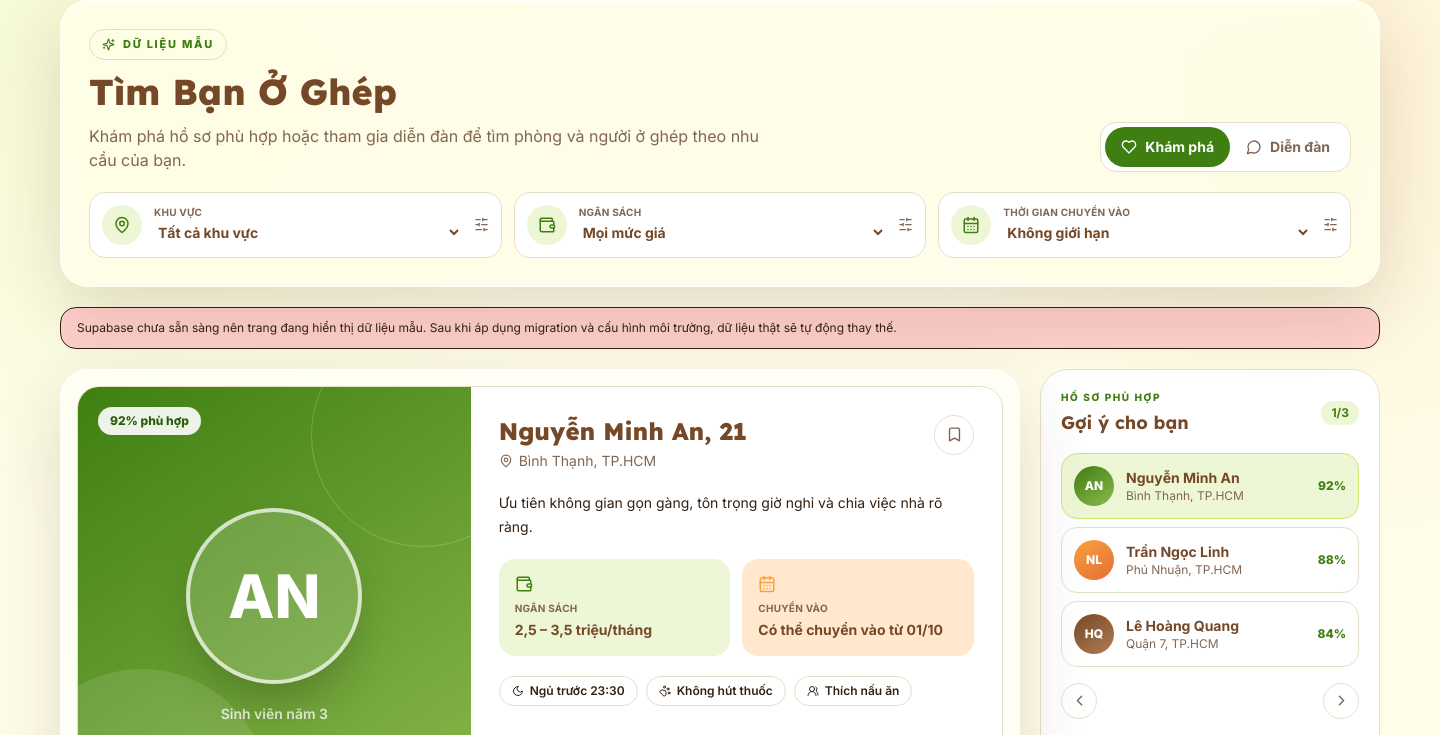
Test: RoommateExperience › lets people browse suggested roommate profiles
Check: the text "Dữ liệu mẫu" is shown, box x1=89 y1=29 x2=227 y2=60
Check: the heading "Tìm Bạn Ở Ghép" is shown, box x1=89 y1=68 x2=397 y2=114
Click the button named "Hồ sơ tiếp theo".
click(1341, 700)  # box x1=1323 y1=682 x2=1359 y2=718
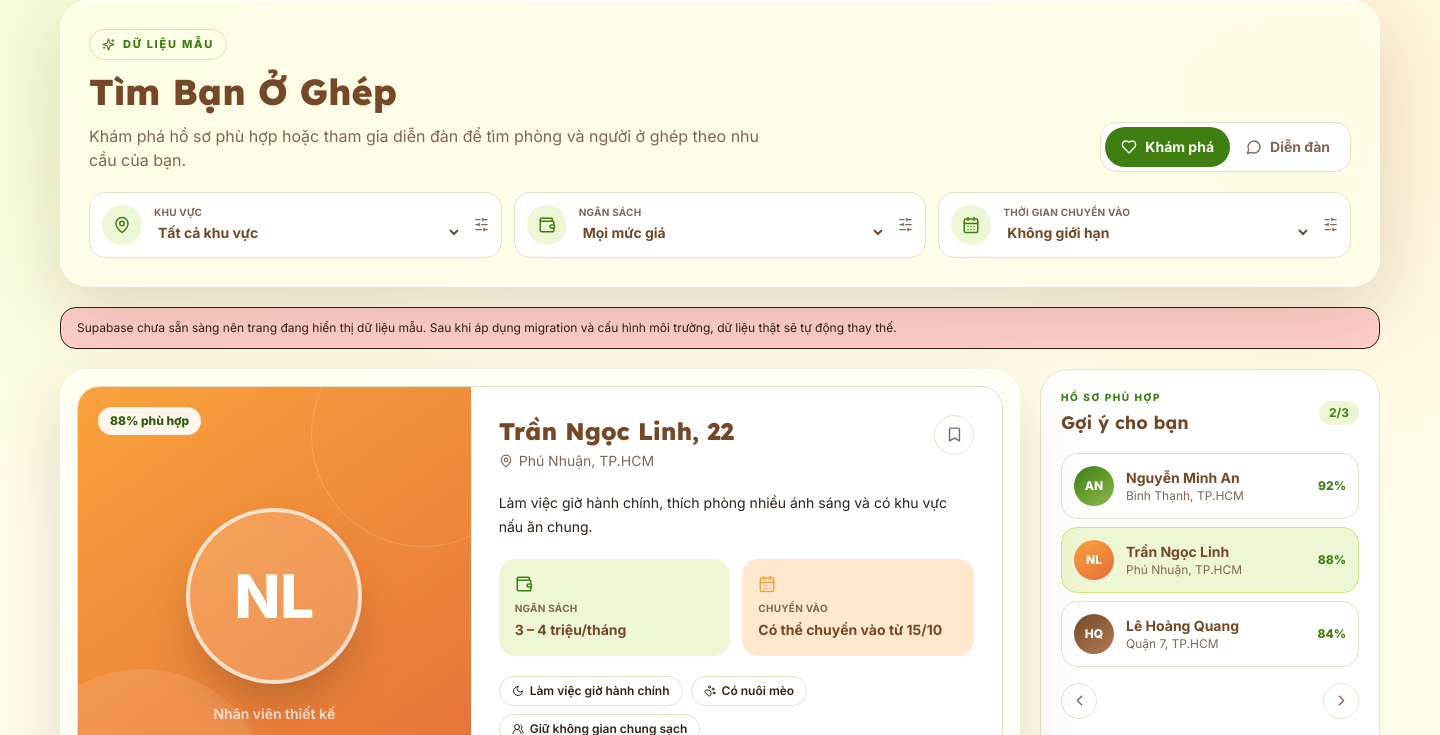
Check: the heading "Trần Ngọc Linh, 22" is shown, box x1=499 y1=414 x2=734 y2=446
